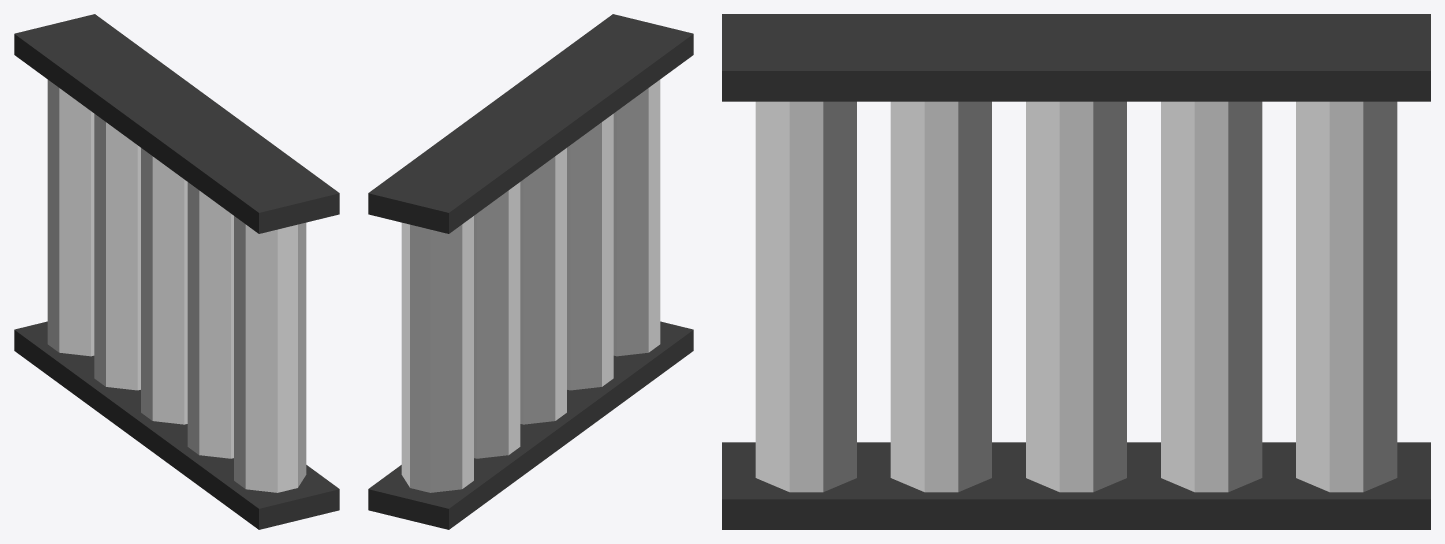
3 renders of one model, left to right at view 1: azimuth 30°, elevation 25°; view 2: azimuth 150°, elevation 25°; view 3: azimuth 270°, elevation 25°, orthographic. The views are drawn at different scales.
Parts seen in each view (by area): view 1: part3; view 2: part3; view 3: part3.
Part boxes in pixels (left/top/right/bottom): part3: left=14, top=14, right=339, bottom=529; part3: left=368, top=14, right=693, bottom=529; part3: left=722, top=14, right=1430, bottom=529.
Size of the model in its own units: 2 by 7.5 by 10.5.
1 material, 1 textured.
